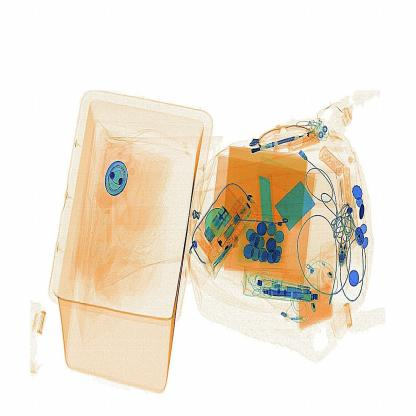pliers: (252, 165, 278, 237)
